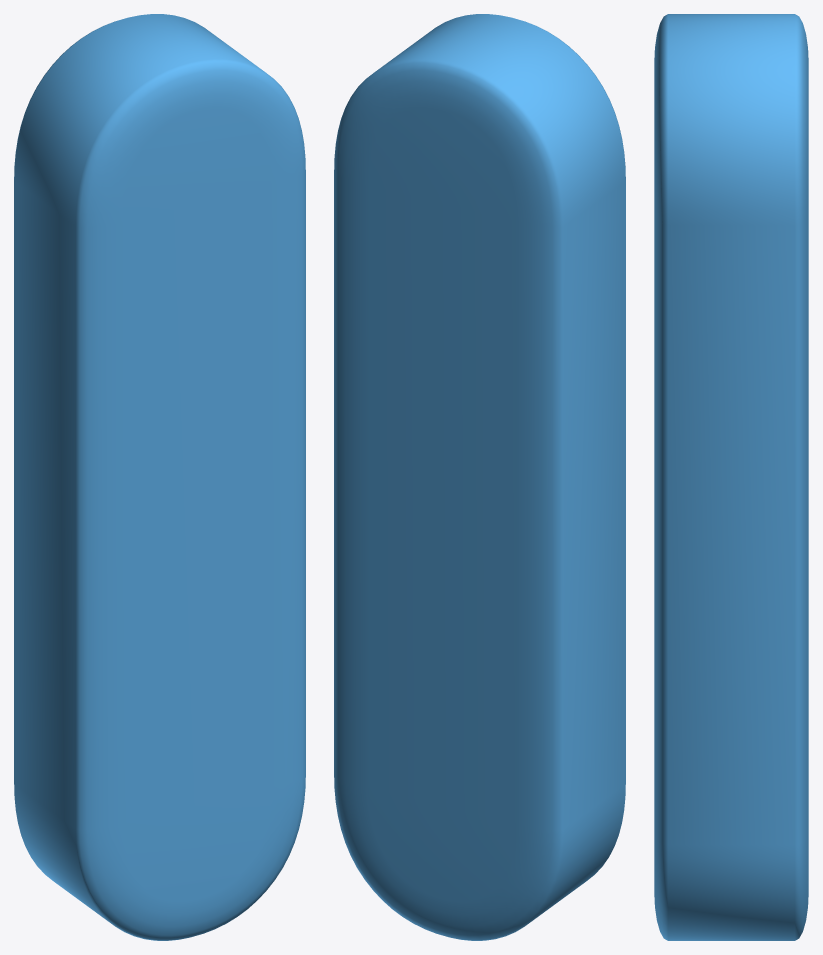
File: RA_Letter_I.fbx
The picture shows the model from 3 angles, left to right: view 1: azimuth 30°, elevation 25°; view 2: azimuth 150°, elevation 25°; view 3: azimuth 270°, elevation 25°; orthographic projection. The views are drawn at different scales.
Visible parts, largest first — view 1: RA_Letter_I; view 2: RA_Letter_I; view 3: RA_Letter_I.
Part boxes in pixels (box(x1,y1,x2,y2)): RA_Letter_I: box(14, 14, 305, 940); RA_Letter_I: box(334, 14, 625, 940); RA_Letter_I: box(654, 14, 808, 940).
Bounding box in the file's own units: 49.54 × 180 × 28.
